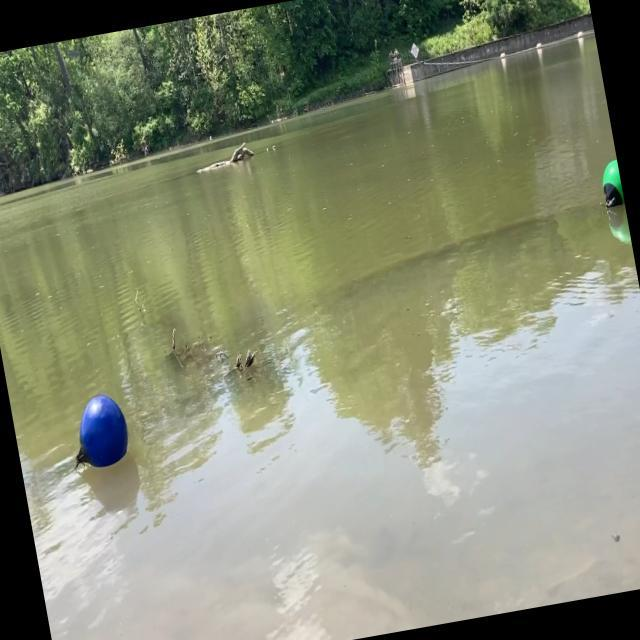buoy: (66, 389, 132, 469), (598, 158, 625, 212)
